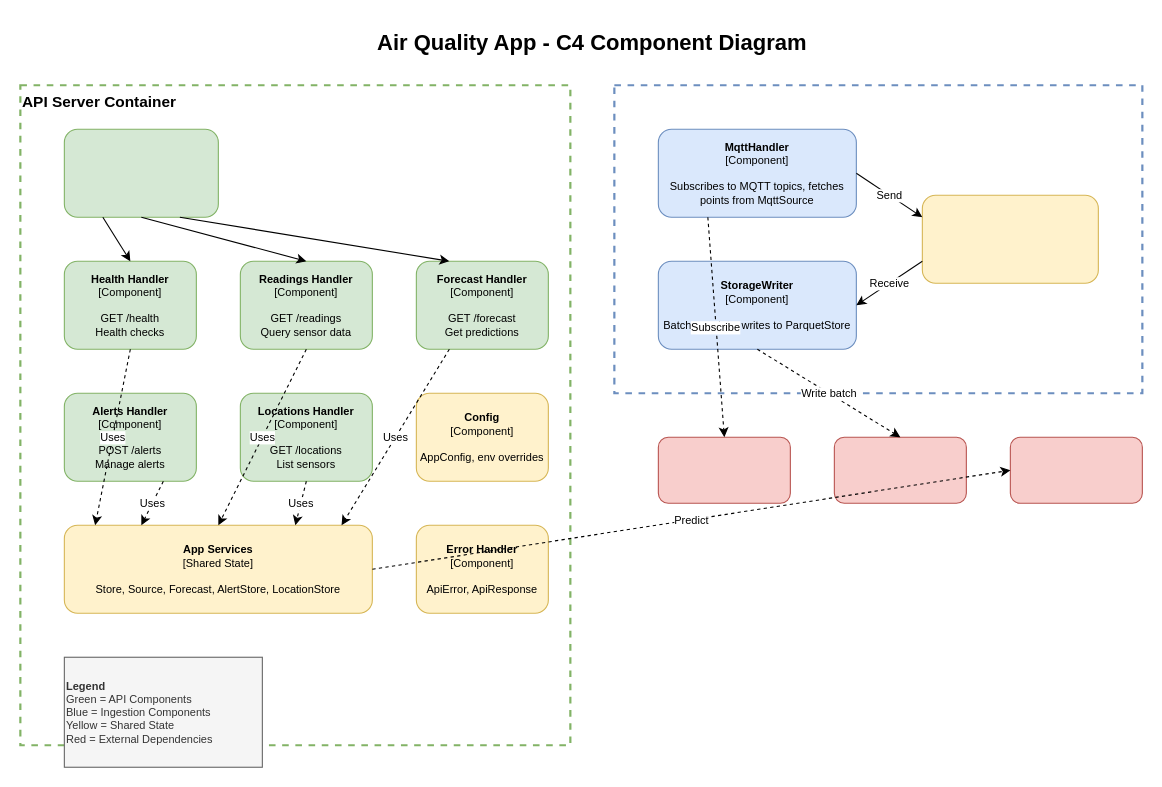
This 1162x787 diagram has some shape labels left out. Here are the shapes that lost their labels. From the top down, the box of each, then its label:
(63, 128, 218, 217): Routes [Axum Router] Defines HTTP routes and middleware
(613, 84, 1143, 394): Ingestion Pipeline
(921, 194, 1098, 283): Channel [mpsc::Sender/Receiver] TimeSeriesPoint buffer (1000 capacity)
(657, 436, 790, 503): MQTT Broker [Mosquitto:1883]
(833, 436, 966, 503): Parquet Store [File System]
(1009, 436, 1142, 503): Forecast Engine [FannForecaster]
